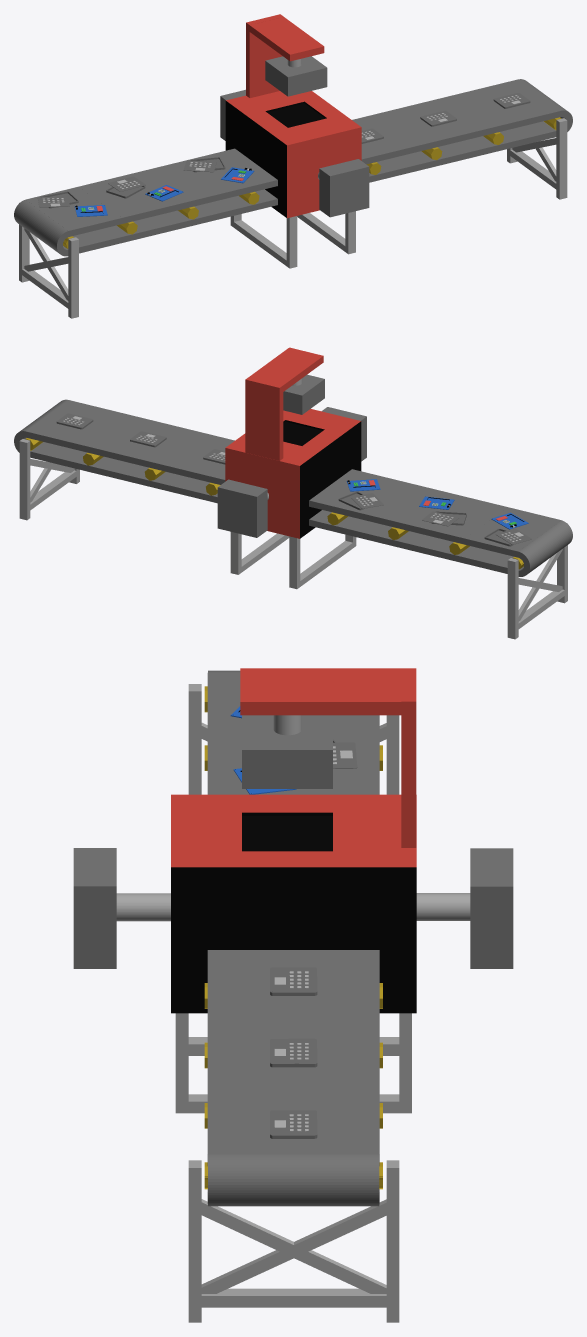
The model's file is mechanic3.glb.
The picture shows the model from 3 angles, top to bottom: view 1: azimuth 30°, elevation 25°; view 2: azimuth 150°, elevation 25°; view 3: azimuth 270°, elevation 25°; orthographic projection. The views are drawn at different scales.
Visible parts, largest first — view 1: belt_start, machine, Cube, machine.002, foot3, Cube.003, foot3.001, Cube.002, machine.003, foot3.002, foot2.002, foot3.003 (+5 smaller); view 2: belt_start, machine, Cube, machine.002, foot3, Cube.001, foot3.001, Cube.002, foot3.002, machine.003, foot2.003, foot3.003 (+7 smaller); view 3: belt_start, machine.001, machine, foot3.001, Cube, Cube.002, Cube.001, Cube.003, machine.003, foot3, Cylindre.002, Cylindre.001 (+5 smaller).
Part boxes in pixels (left/top/right/bottom): belt_start: left=14, top=79, right=572, bottom=256; machine: left=226, top=91, right=361, bottom=218; Cube: left=246, top=14, right=324, bottom=97; machine.002: left=225, top=101, right=286, bottom=217; foot3: left=19, top=202, right=78, bottom=318; Cube.003: left=319, top=159, right=369, bottom=217; foot3.001: left=507, top=118, right=567, bottom=199; Cube.002: left=265, top=56, right=327, bottom=96; machine.003: left=265, top=101, right=326, bottom=127; foot3.002: left=234, top=220, right=286, bottom=265; foot2.002: left=286, top=216, right=297, bottom=268; foot3.003: left=297, top=213, right=345, bottom=251; belt_start: left=14, top=399, right=572, bottom=576; machine: left=225, top=409, right=360, bottom=538; Cube: left=245, top=347, right=323, bottom=460; machine.002: left=300, top=421, right=361, bottom=538; foot3: left=507, top=523, right=567, bottom=639; Cube.001: left=217, top=479, right=267, bottom=537; foot3.001: left=19, top=439, right=79, bottom=520; Cube.002: left=283, top=374, right=324, bottom=414; foot3.002: left=300, top=541, right=352, bottom=586; machine.003: left=283, top=420, right=324, bottom=445; foot2.003: left=289, top=536, right=300, bottom=589; foot3.003: left=241, top=533, right=289, bottom=572; belt_start: left=204, top=670, right=382, bottom=1206; machine.001: left=171, top=867, right=416, bottom=1013; machine: left=171, top=794, right=416, bottom=867; foot3.001: left=188, top=1160, right=399, bottom=1322; Cube: left=240, top=668, right=416, bottom=847; Cube.002: left=242, top=715, right=332, bottom=788; Cube.001: left=470, top=848, right=513, bottom=968; Cube.003: left=73, top=848, right=116, bottom=968; machine.003: left=242, top=812, right=332, bottom=851; foot3: left=188, top=684, right=399, bottom=794; Cylindre.002: left=116, top=893, right=170, bottom=921; Cylindre.001: left=416, top=893, right=470, bottom=920.
Bounding box in the file's own units: 8.46 × 3.1 × 3.12.
